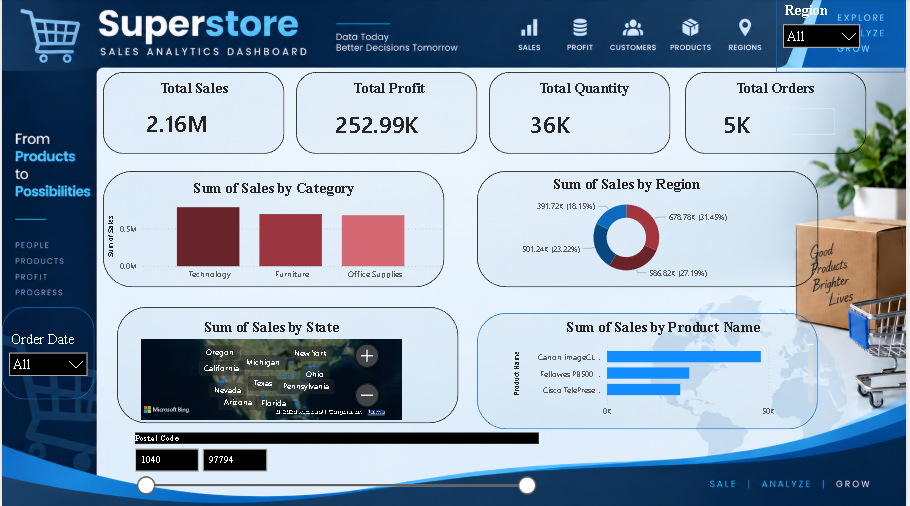

The page's visual inventory and layout, read from the dashboard file:
{"tool":"powerbi","page":{"name":"Page 1","canvas":[1280,720],"ordinal":0},"visuals":[{"type":"shape","box":[142.8,104.1,257,115.9],"z":0},{"type":"cardVisual","title":"Total Sales","fields":{"Data":["Superstore.Total Sales"]},"box":[176.4,114.2,191.5,95.7],"z":1000},{"type":"cardVisual","title":"Total Profit","fields":{"Data":["Superstore.Total Profit"]},"box":[441.8,114.2,213.3,95.7],"z":2000},{"type":"shape","box":[416.6,104.1,257,115.9],"z":3000},{"type":"cardVisual","title":"Total Quantity","fields":{"Data":["Superstore.Total Quantity"]},"box":[719,114.2,211.7,95.7],"z":4000},{"type":"shape","box":[690.4,104.1,257,115.9],"z":5000},{"type":"cardVisual","title":"Total Orders","fields":{"Data":["Superstore.Total Orders"]},"box":[992.8,114.2,206.6,95.7],"z":6000},{"type":"shape","box":[967.6,104.1,257,115.9],"z":7000},{"type":"columnChart","fields":{"Category":["Superstore.Category"],"Y":["Sum(Superstore.Sales)"]},"box":[142.8,257,483.8,151.2],"z":8000},{"type":"shape","box":[142.8,243.6,483.8,164.6],"z":9000},{"type":"shape","box":[673.6,243.6,483.8,164.6],"z":10000},{"type":"donutChart","fields":{"Category":["Superstore.Region"],"Y":["Sum(Superstore.Sales)"]},"box":[673.6,250.3,423.3,151.2],"z":11000},{"type":"map","fields":{"Category":["Superstore.State"],"Size":["Sum(Superstore.Sales)"]},"box":[191.5,453.5,381.3,147.8],"z":12000},{"type":"shape","box":[162.9,436.7,483.8,164.6],"z":13000},{"type":"shape","box":[0,436.7,131,131],"z":14000},{"type":"shape","box":[1096.9,0,183.1,104.1],"z":15000},{"type":"slicer","fields":{"Values":["Superstore.Order Date"]},"box":[0,467,131,100.8],"z":16000},{"type":"shape","box":[673.6,445.1,483,164.6],"z":16500},{"type":"slicer","fields":{"Values":["Superstore.Region"]},"box":[1096.9,0,129.3,85.7],"z":17000},{"type":"clusteredBarChart","fields":{"Category":["Superstore.Product Name"],"Y":["Sum(Superstore.Sales)"]},"box":[719,453.5,436.7,147.8],"z":19000},{"type":"slicer","fields":{"Values":["Superstore.Postal Code"]},"box":[176.4,609.8,598,94.1],"z":19001}]}

Visuals, with their boxes on the page's 1280x720 design canvas (x1, y1, x2, y2). These are canvas units, not pixel positions in the 910x506 screenshot, which may show the page scaled, cropped or inside an application window:
shape: x1=143, y1=104, x2=400, y2=220
"Total Sales" cardVisual: x1=176, y1=114, x2=368, y2=210
"Total Profit" cardVisual: x1=442, y1=114, x2=655, y2=210
shape: x1=417, y1=104, x2=674, y2=220
"Total Quantity" cardVisual: x1=719, y1=114, x2=931, y2=210
shape: x1=690, y1=104, x2=947, y2=220
"Total Orders" cardVisual: x1=993, y1=114, x2=1199, y2=210
shape: x1=968, y1=104, x2=1225, y2=220
columnChart - Superstore.Category x Sum(Superstore.Sales): x1=143, y1=257, x2=627, y2=408
shape: x1=143, y1=244, x2=627, y2=408
shape: x1=674, y1=244, x2=1157, y2=408
donutChart - Superstore.Region x Sum(Superstore.Sales): x1=674, y1=250, x2=1097, y2=402
map - Superstore.State x Sum(Superstore.Sales): x1=192, y1=454, x2=573, y2=601
shape: x1=163, y1=437, x2=647, y2=601
shape: x1=0, y1=437, x2=131, y2=568
shape: x1=1097, y1=0, x2=1280, y2=104
slicer - Superstore.Order Date: x1=0, y1=467, x2=131, y2=568
shape: x1=674, y1=445, x2=1157, y2=610
slicer - Superstore.Region: x1=1097, y1=0, x2=1226, y2=86
clusteredBarChart - Superstore.Product Name x Sum(Superstore.Sales): x1=719, y1=454, x2=1156, y2=601
slicer - Superstore.Postal Code: x1=176, y1=610, x2=774, y2=704
